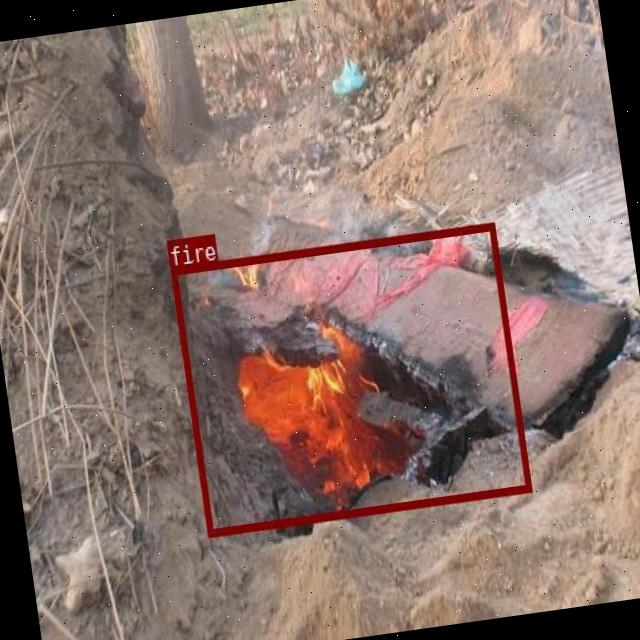fire: (169, 223, 531, 537)
